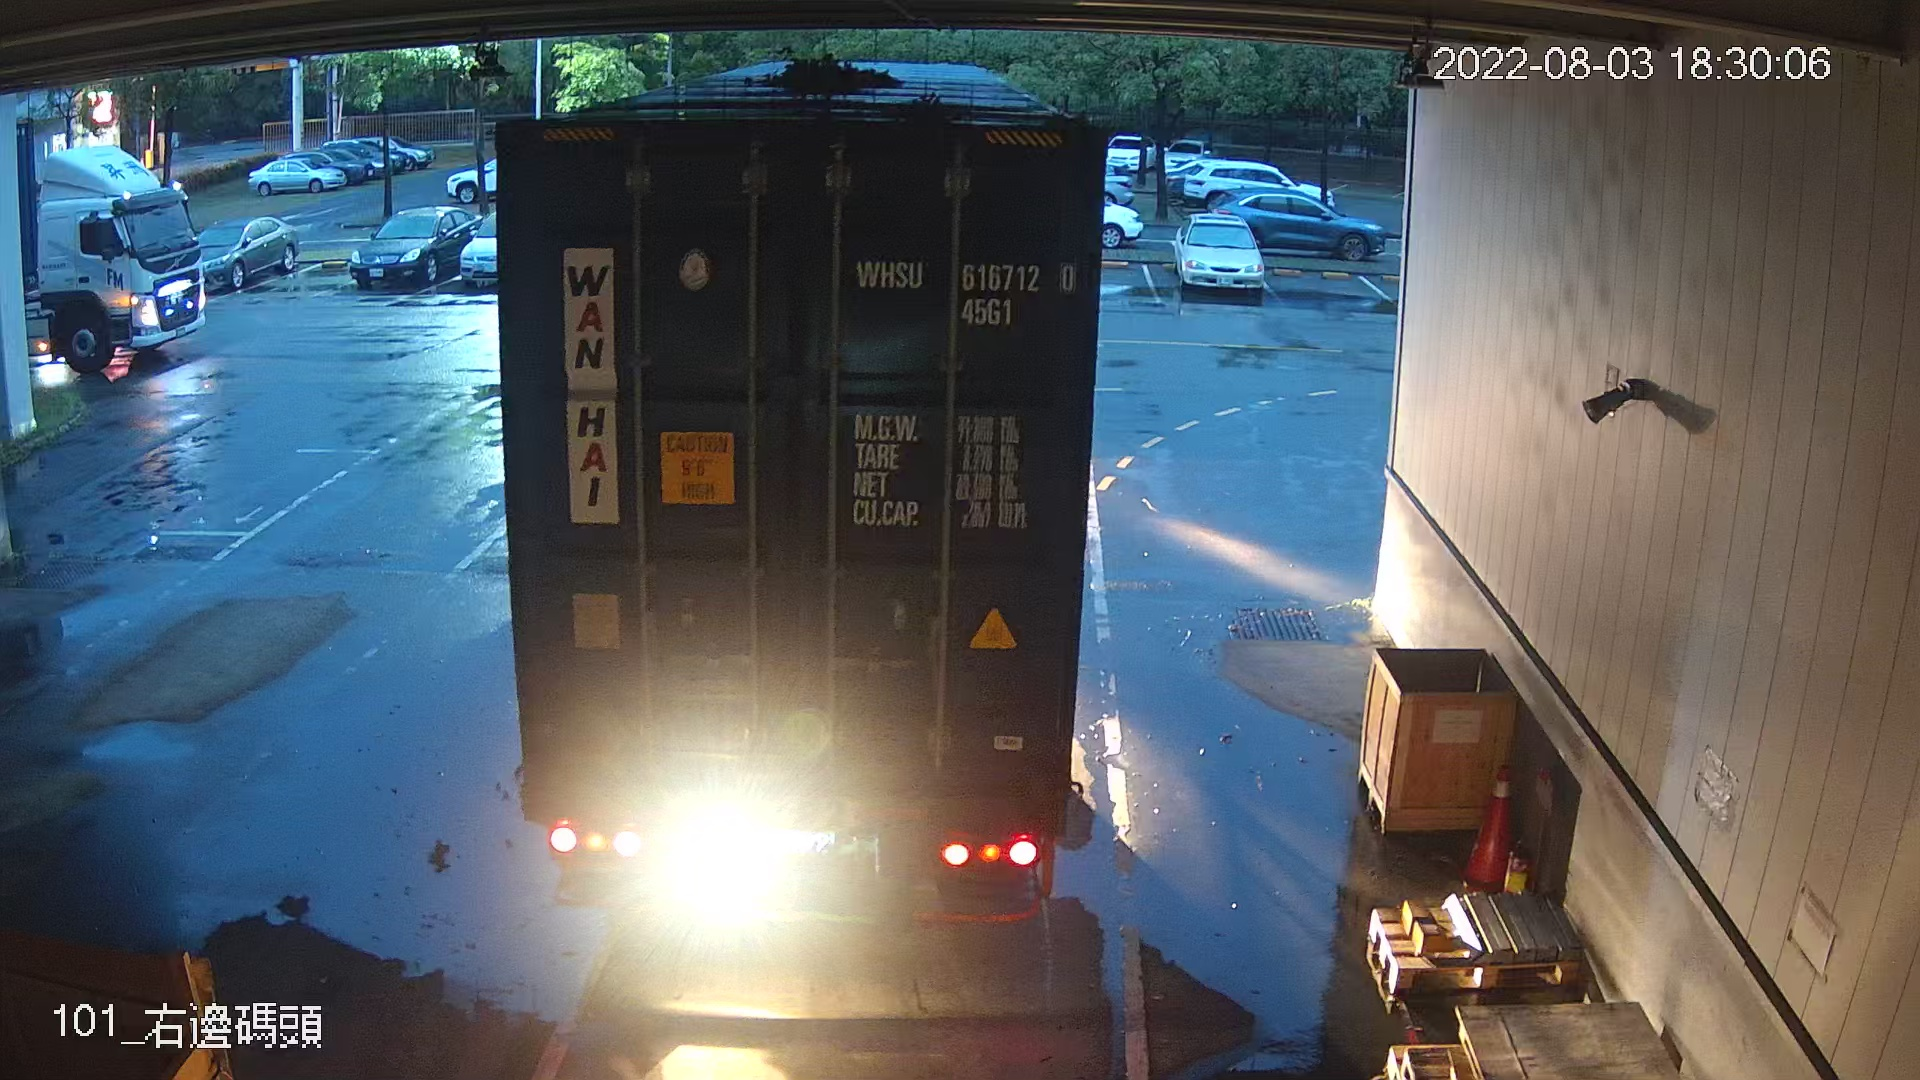container: (843, 243, 1083, 335)
